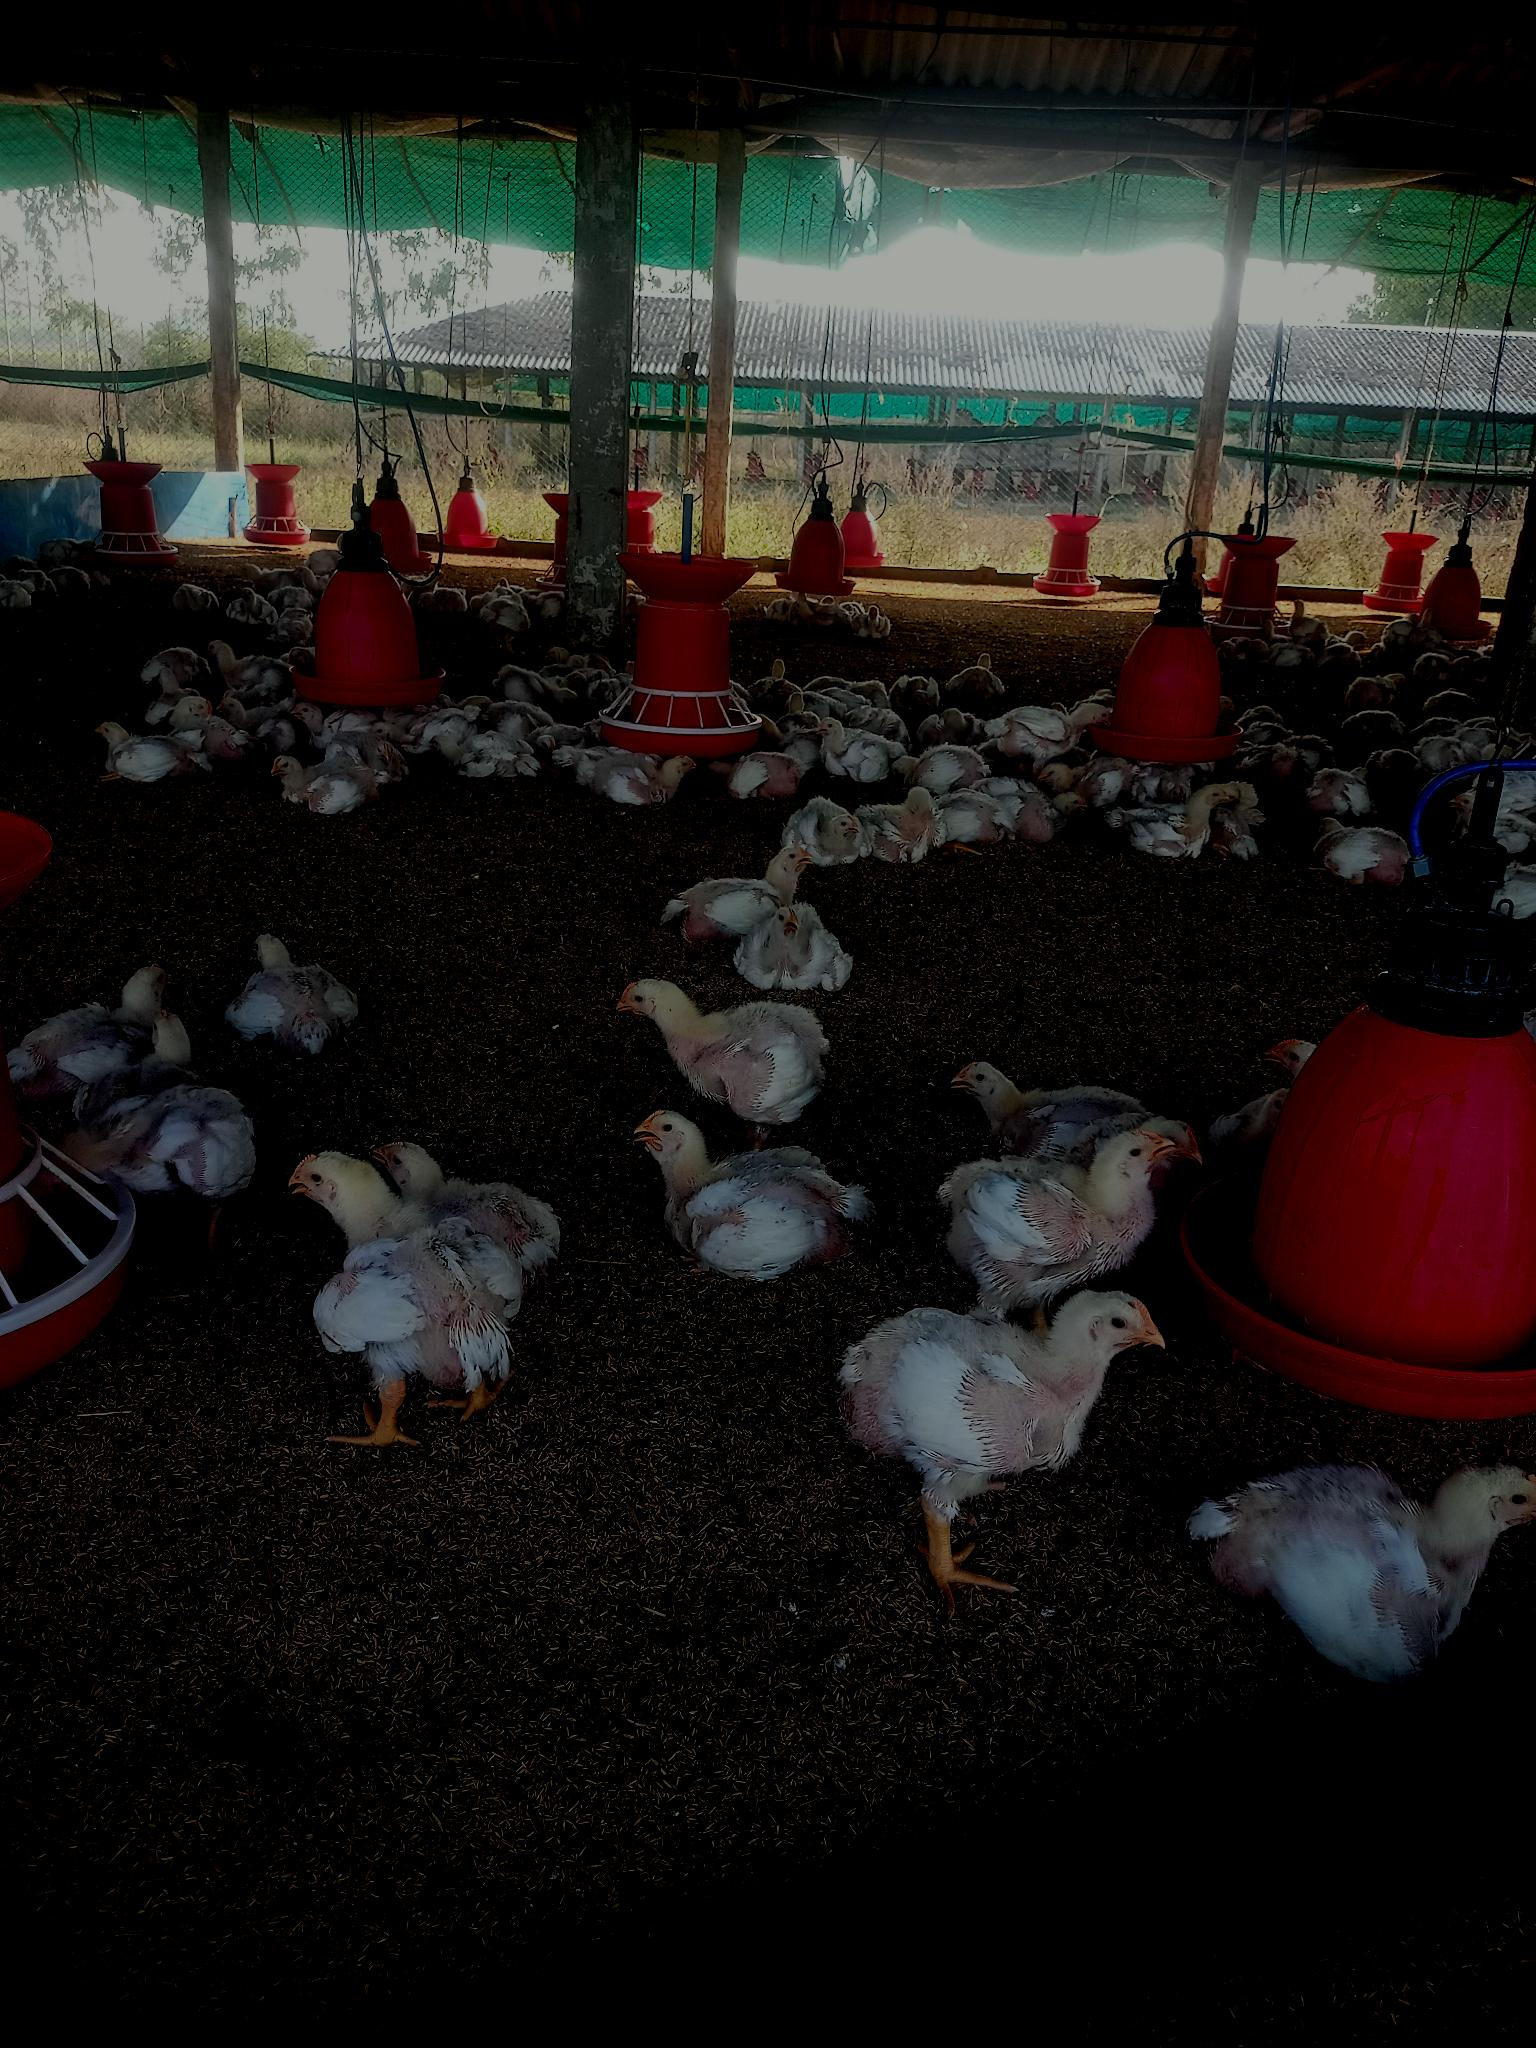Pollos: (1179, 1455, 1536, 1692), (820, 1284, 1167, 1500), (294, 1135, 547, 1427), (936, 1119, 1199, 1300), (628, 1113, 862, 1279), (607, 976, 831, 1127), (26, 964, 189, 1113), (216, 918, 357, 1058), (1126, 774, 1242, 860), (1307, 811, 1420, 893), (92, 719, 210, 790), (565, 740, 700, 800), (874, 780, 952, 861), (783, 792, 865, 868), (263, 751, 376, 806), (995, 693, 1089, 760), (800, 711, 891, 774), (762, 901, 837, 976), (432, 701, 503, 764), (957, 643, 1008, 706)
